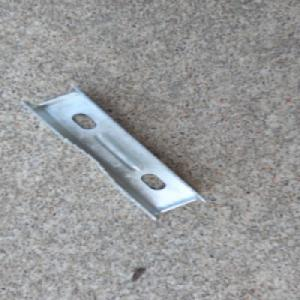ClampPart: (19, 82, 209, 221)
